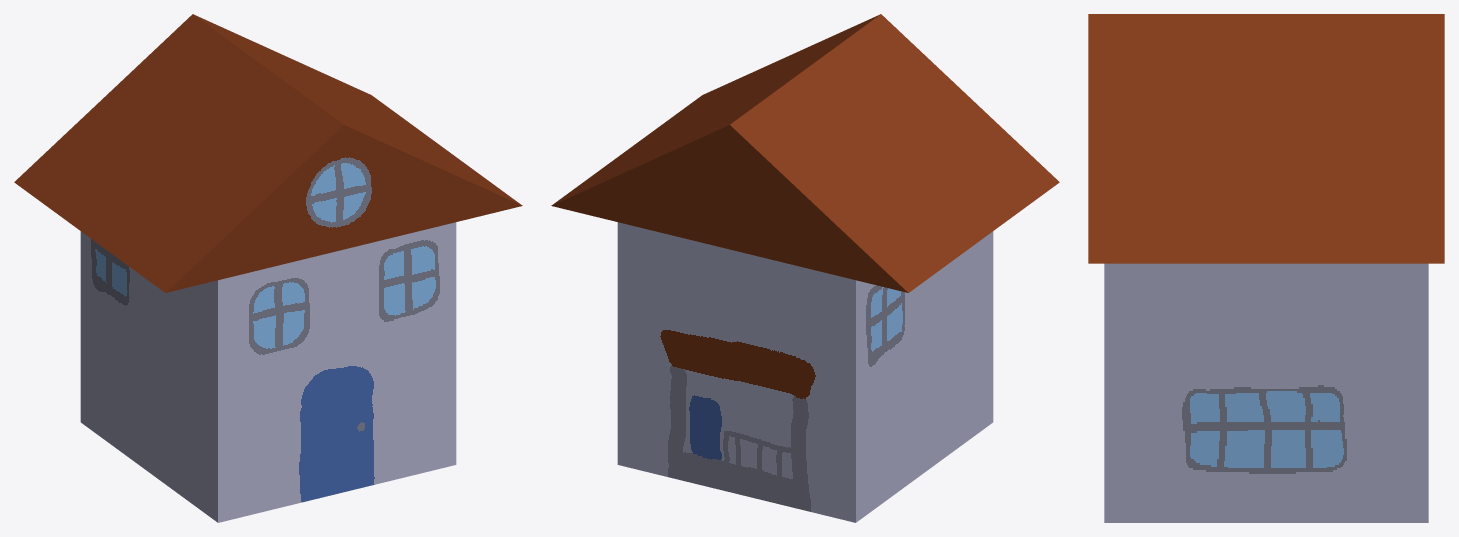
Rendered from house.glb.
The picture shows the model from 3 angles, left to right: view 1: azimuth 30°, elevation 25°; view 2: azimuth 150°, elevation 25°; view 3: azimuth 270°, elevation 25°; orthographic projection. The views are drawn at different scales.
Parts seen in each view (by area): view 1: Cube; view 2: Cube; view 3: Cube.
Boxes of the visible parts, x1,y1,x2,y2 form: Cube: (14,14,522,522); Cube: (551,14,1059,522); Cube: (1088,14,1444,522).
Bounding box in the file's own units: 3 × 3 × 2.2.
Materials: 1 (1 with a texture image).
